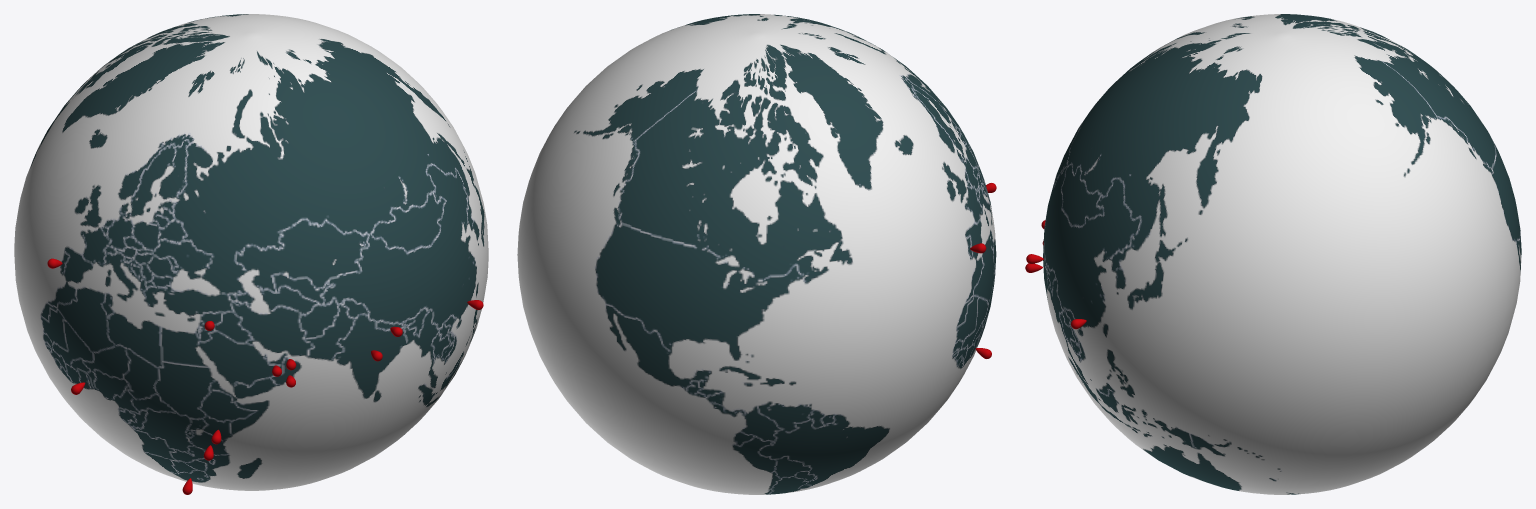
Rendered from Globe-5.6m_Rotated.glb.
3 renders of one model, left to right at view 1: azimuth 30°, elevation 25°; view 2: azimuth 150°, elevation 25°; view 3: azimuth 270°, elevation 25°, orthographic.
Visible parts, largest first — view 1: 5.6m; view 2: 5.6m; view 3: 5.6m.
Part boxes in pixels (<box>): 5.6m: <box>14,14,488,490</box>; 5.6m: <box>517,14,996,494</box>; 5.6m: <box>1043,14,1521,494</box>.
Size of the model in its own units: 5.65 by 5.59 by 5.73.
Materials: 2 (1 with a texture image).
